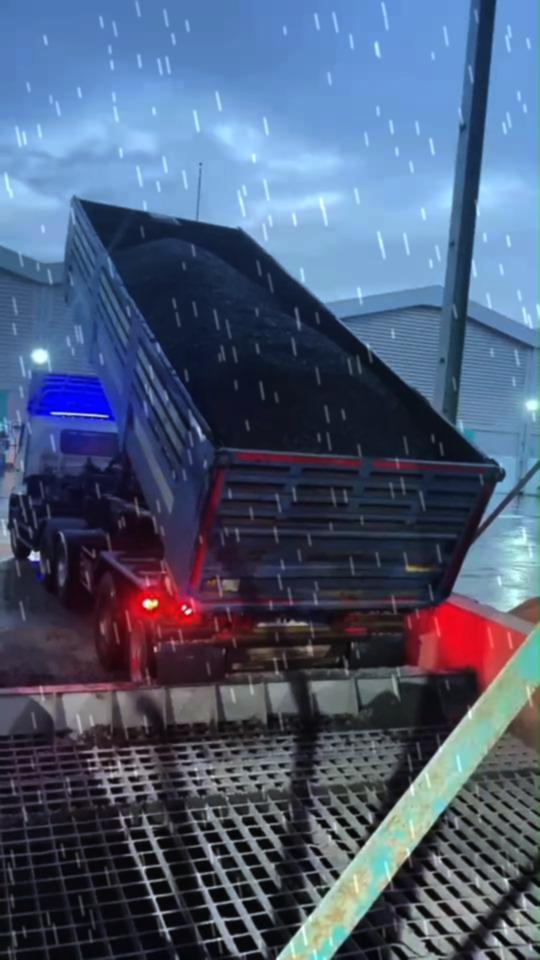gravel: (113, 239, 435, 459)
